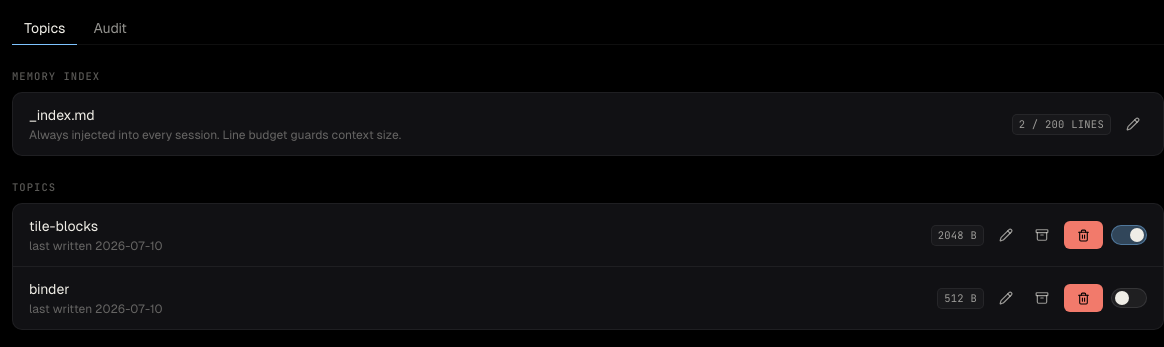
MemorySettings › lists topics with enablement, and the audit feed lives on its own tab
Expected: the text "tile-blocks" is shown, [29,218,98,234]
Expected: the text "2 / 200 lines" is shown, [1012,114,1111,135]
Step 1. Click the tab "Audit" → [110, 28], box [82,12,139,45]
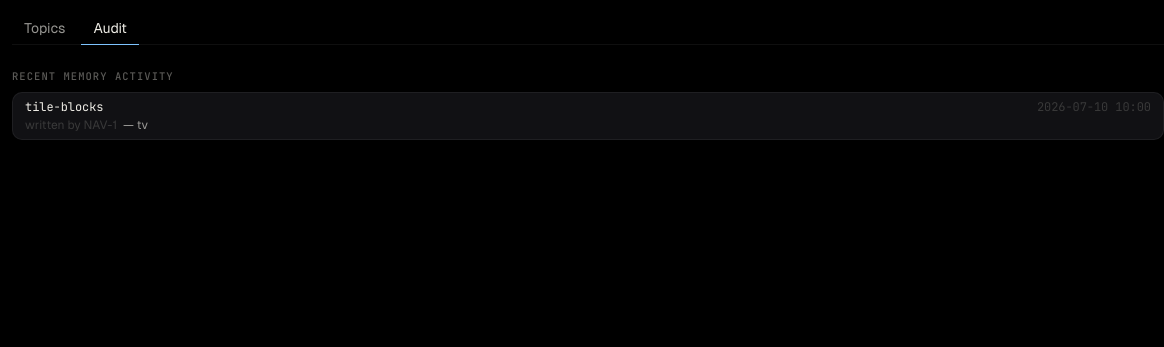
Expected: the text "written by NAV-1" is shown, [25,117,117,133]
